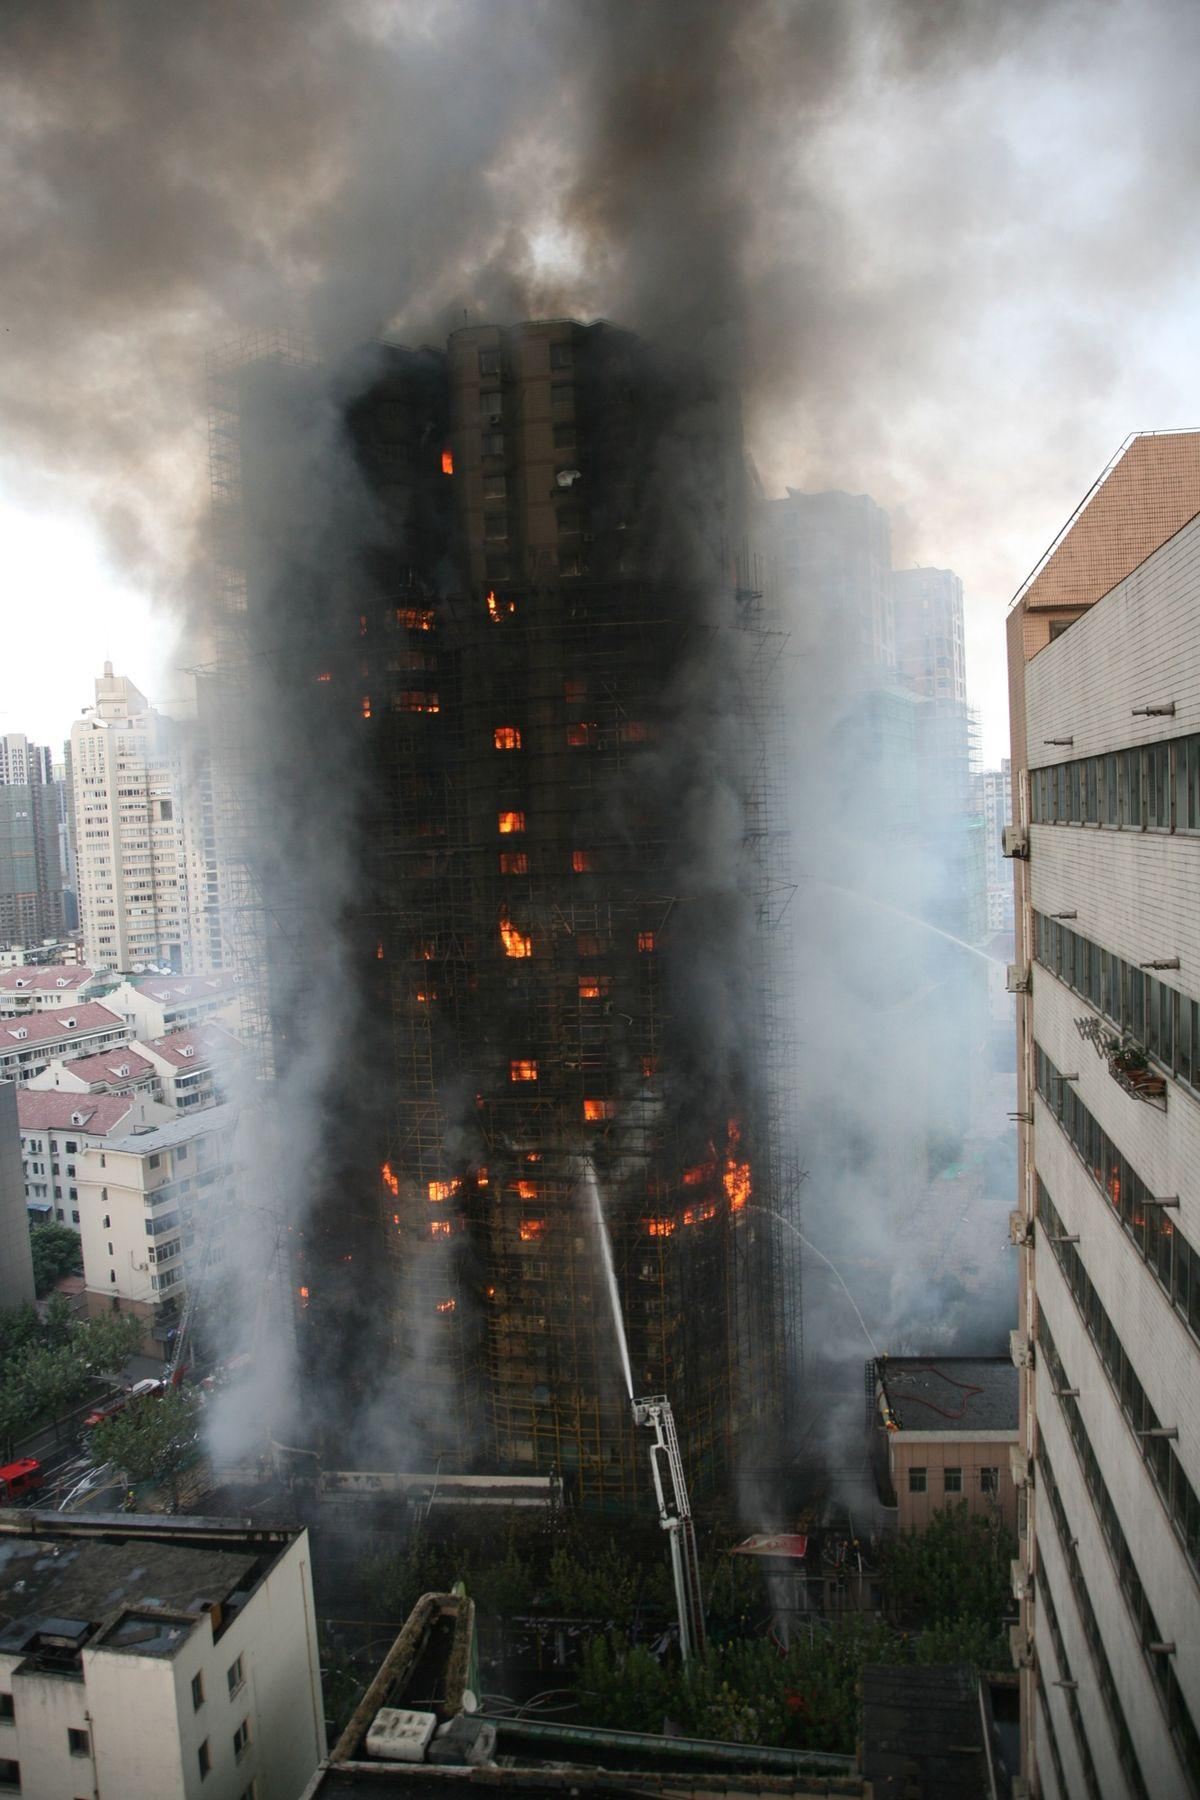Fire: (358, 477, 754, 1325)
